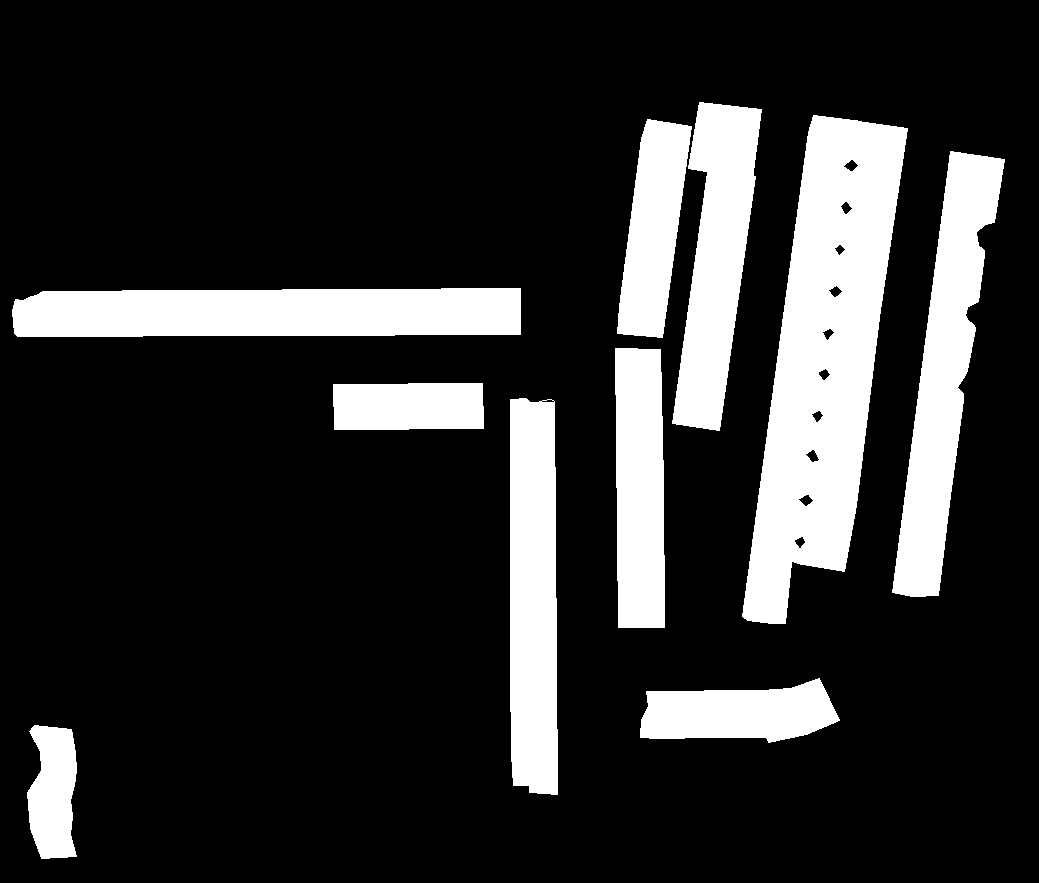parkingspot: (742, 115, 861, 623), (795, 121, 907, 571), (892, 151, 1004, 596), (12, 288, 520, 336), (672, 172, 755, 430), (510, 398, 557, 794), (617, 119, 691, 337), (615, 348, 664, 627), (640, 678, 839, 742), (333, 383, 483, 429), (27, 725, 76, 858), (688, 102, 761, 179)
